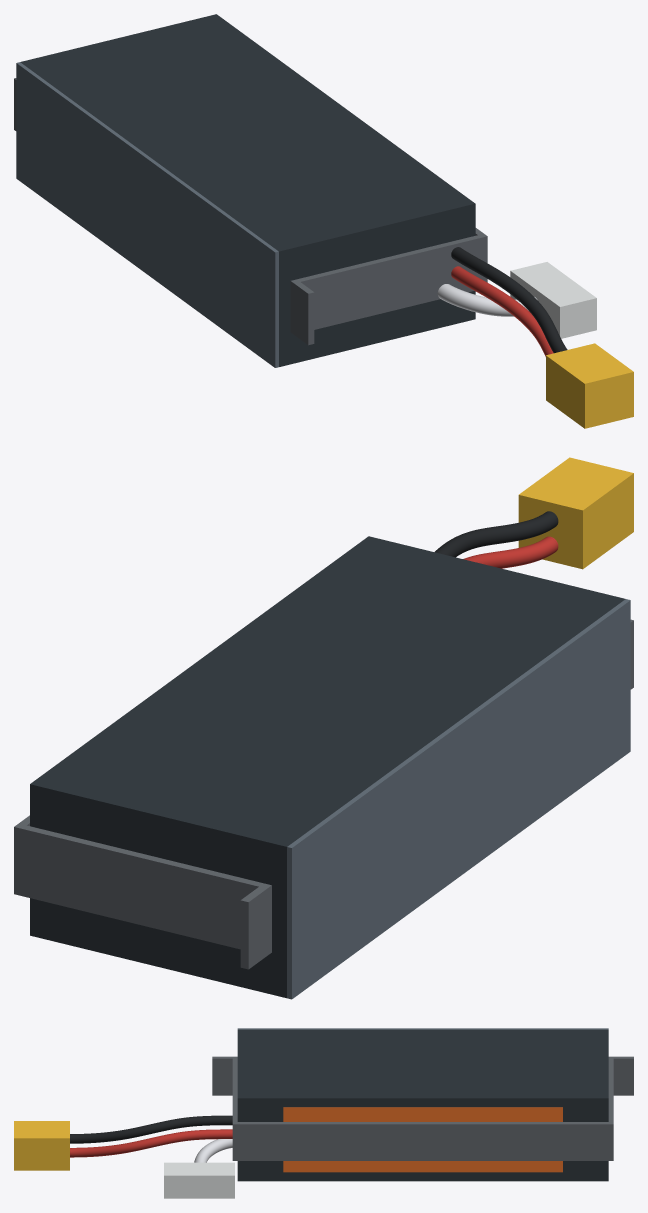
File: battery_pack.glb
3 views of the same model, one above another, from view 1: azimuth 30°, elevation 25°; view 2: azimuth 150°, elevation 25°; view 3: azimuth 270°, elevation 25° (orthographic). The views are drawn at different scales.
Visible parts, largest first — view 1: battery_pack (×8); view 2: battery_pack (×6); view 3: battery_pack (×9).
Boxes of the visible parts, box(x1,y1,x2,y2) form: battery_pack (×8): box(14, 14, 633, 428); battery_pack (×6): box(14, 457, 633, 999); battery_pack (×9): box(14, 1028, 633, 1198).
Bounding box in the file's own units: 0.044 × 0.018 × 0.122.
